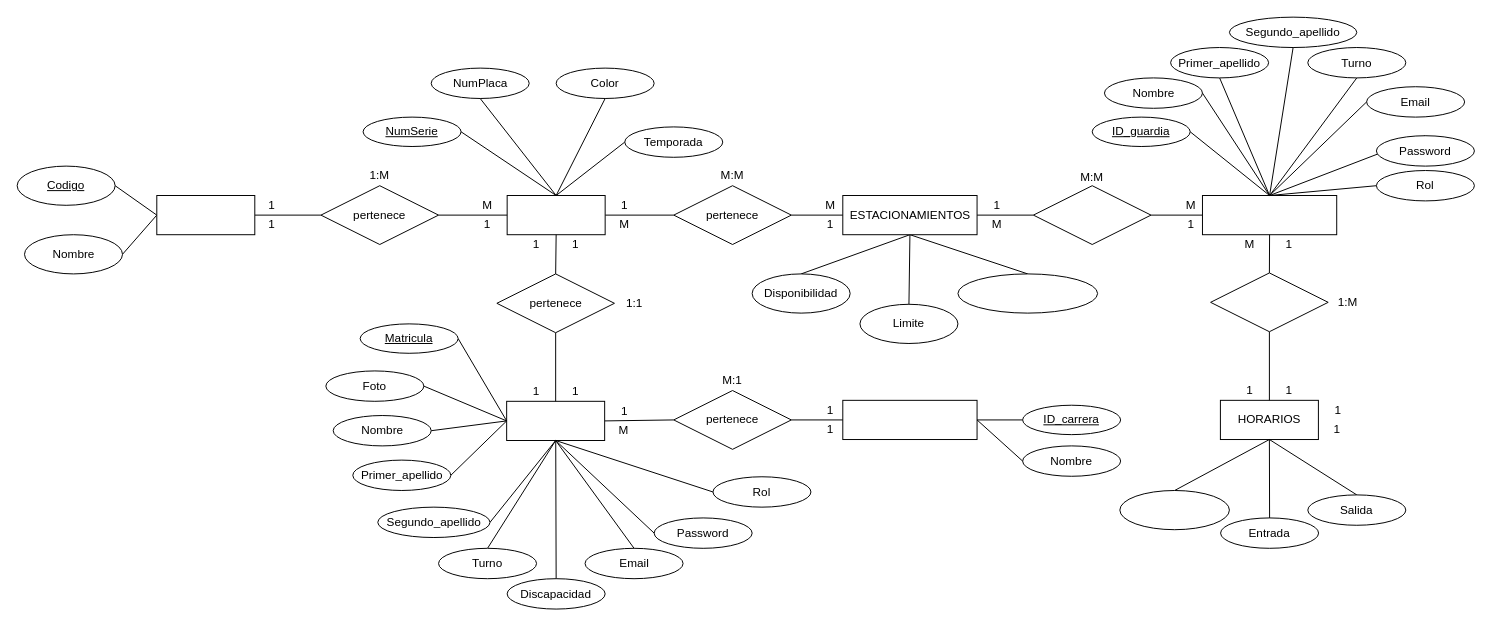
This 1492x626 diagram has some shape labels left out. The centre of each missing label's shape, as x and y in pixels:
"Alumno" goes at point 555,420.
"AUTOMOVILES" goes at point 555,215.
"CARRERAS" goes at point 909,419.
"GUARDIAS" goes at point 1269,215.
"incluye" goes at point 1091,215.
"MARCA" goes at point 205,215.
"NumEstacionamiento" goes at point 1027,293.
"NumHorario" goes at point 1174,510.
"tiene" goes at point 1269,302.
